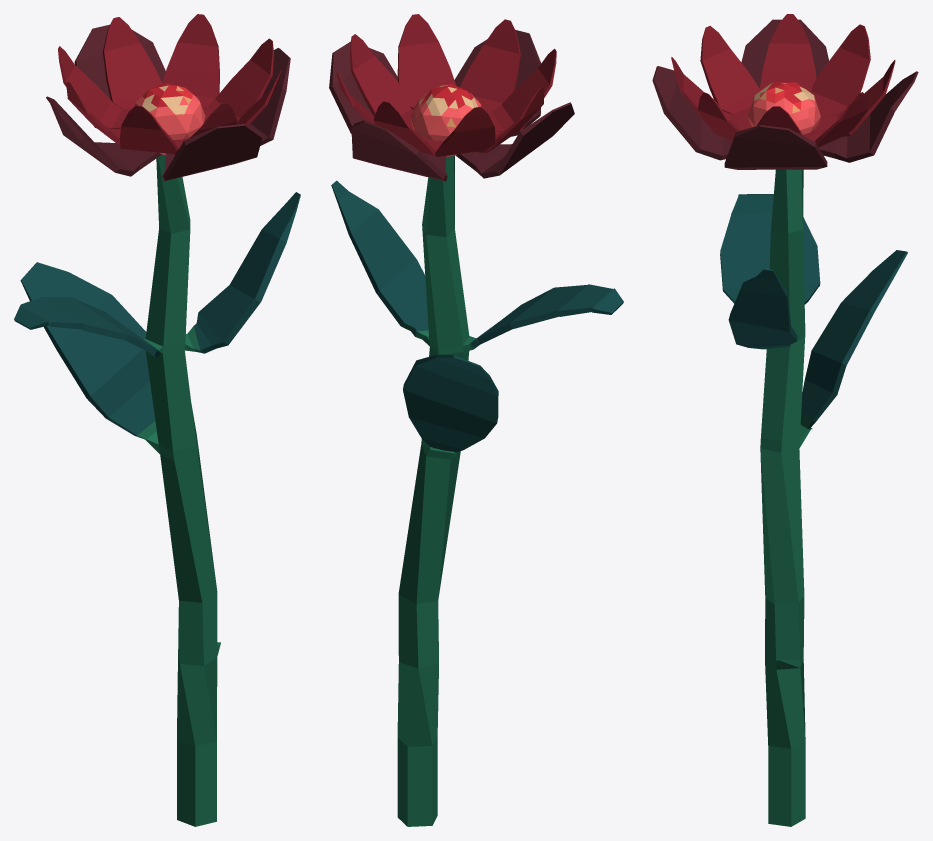
The model's file is flower.fbx.
3 renders of one model, left to right at view 1: azimuth 30°, elevation 25°; view 2: azimuth 150°, elevation 25°; view 3: azimuth 270°, elevation 25°, orthographic. The views are drawn at different scales.
Parts seen in each view (by area): view 1: Flower; view 2: Flower; view 3: Flower.
Part boxes in pixels (left/top/right/bottom): Flower: left=14, top=14, right=300, bottom=826; Flower: left=329, top=14, right=623, bottom=826; Flower: left=652, top=14, right=918, bottom=826.
Bounding box in the file's own units: 150 × 388 × 125.
